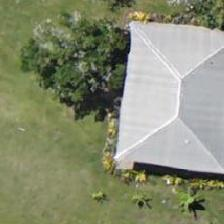coconut_tree: (100, 147, 190, 223), (52, 150, 142, 223), (155, 160, 223, 223)
